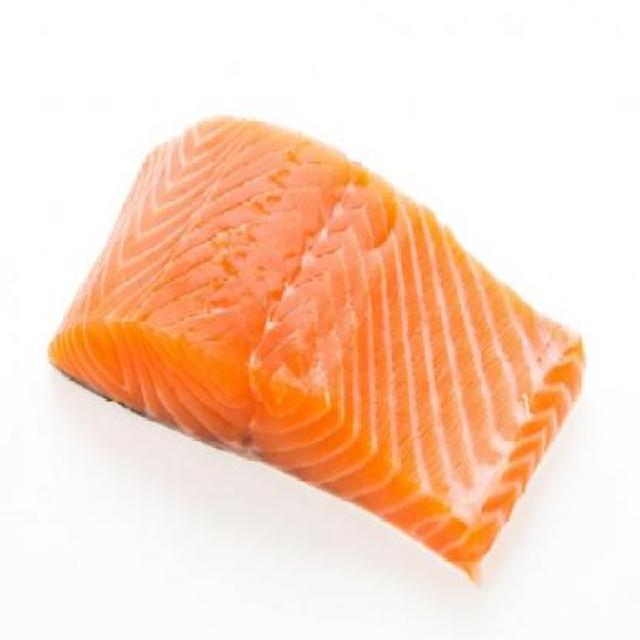salmon: (43, 100, 592, 589)
